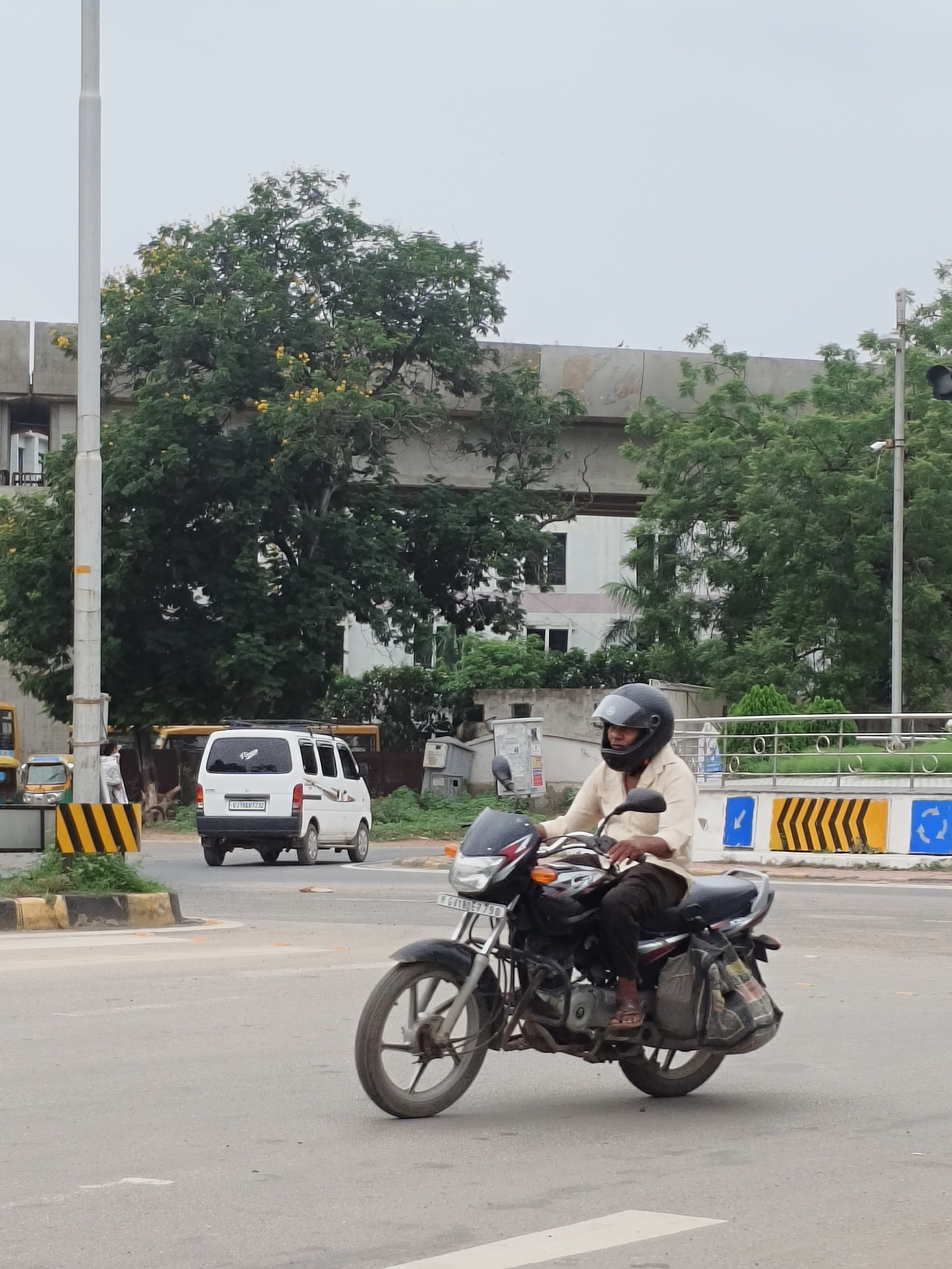BikeWithRider: (339, 674, 799, 1128)
Helmet: (580, 676, 686, 778)
